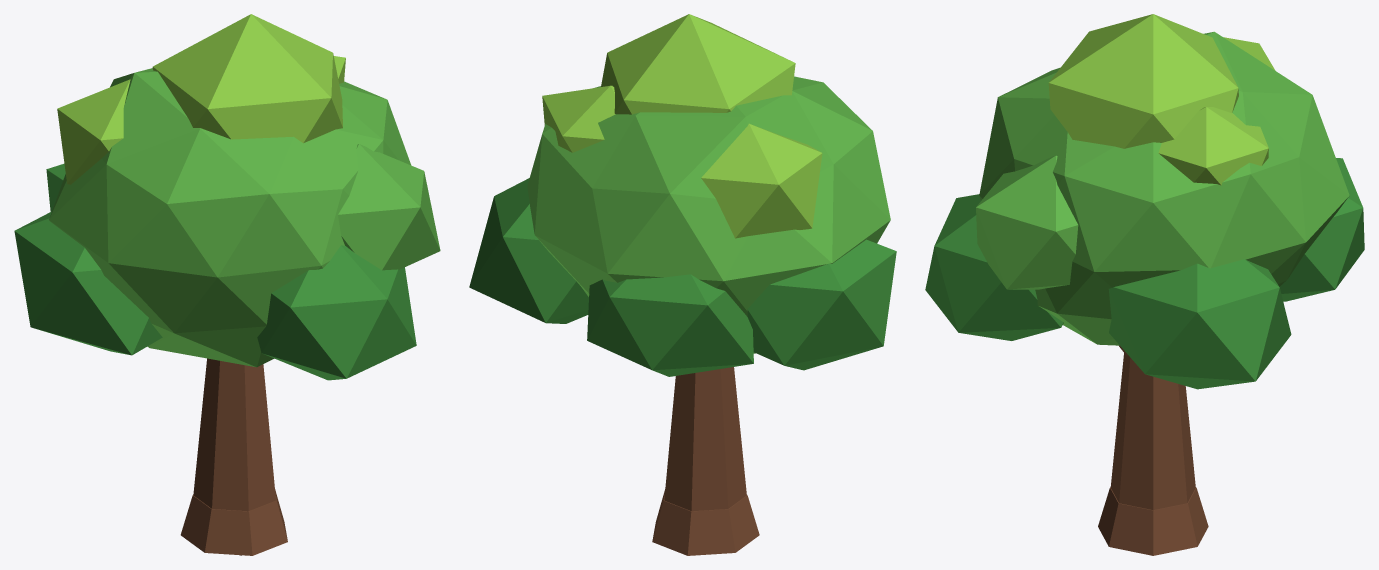
The model's file is Tree_Oak_A.fbx.
3 renders of one model, left to right at view 1: azimuth 30°, elevation 25°; view 2: azimuth 150°, elevation 25°; view 3: azimuth 270°, elevation 25°, orthographic.
Visible parts, largest first — view 1: Tree_Oak_A; view 2: Tree_Oak_A; view 3: Tree_Oak_A.
Boxes of the visible parts, <box> form: Tree_Oak_A: <box>14,14,440,555</box>; Tree_Oak_A: <box>469,14,896,555</box>; Tree_Oak_A: <box>925,14,1364,555</box>.
Size of the model in its own units: 5.07 by 6.68 by 4.97.
